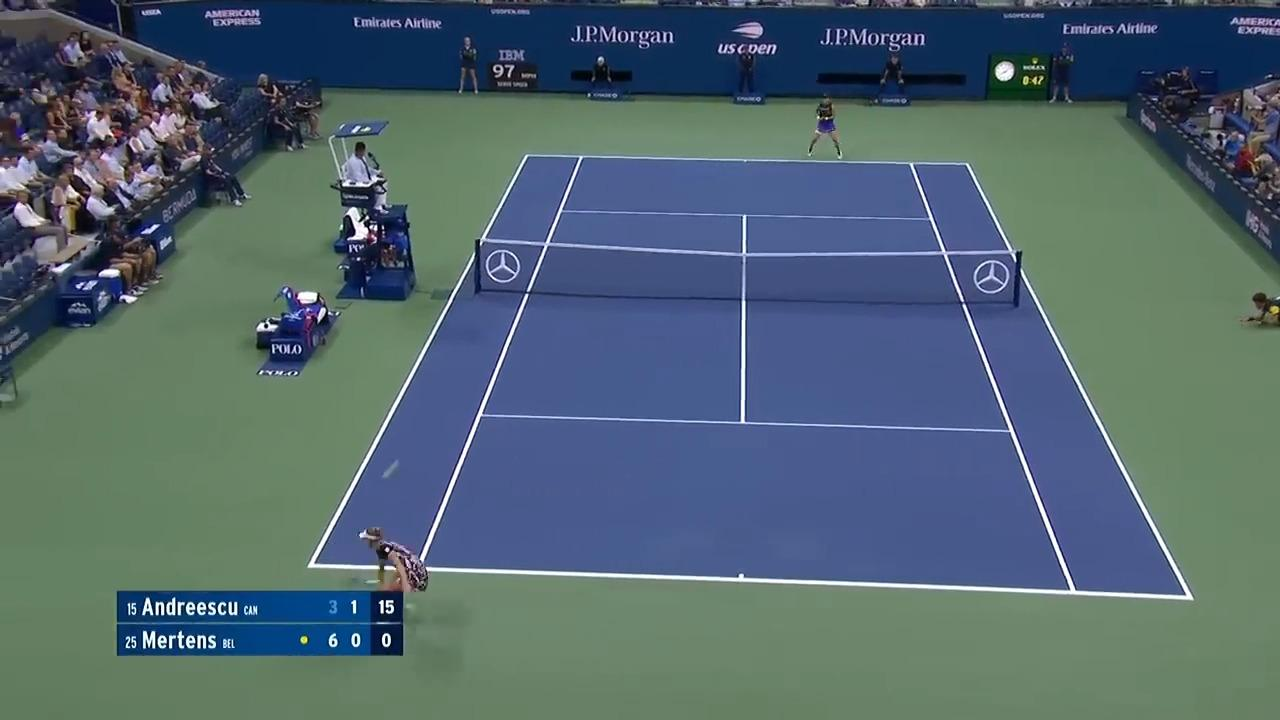tennis ball: (381, 459, 401, 480)
